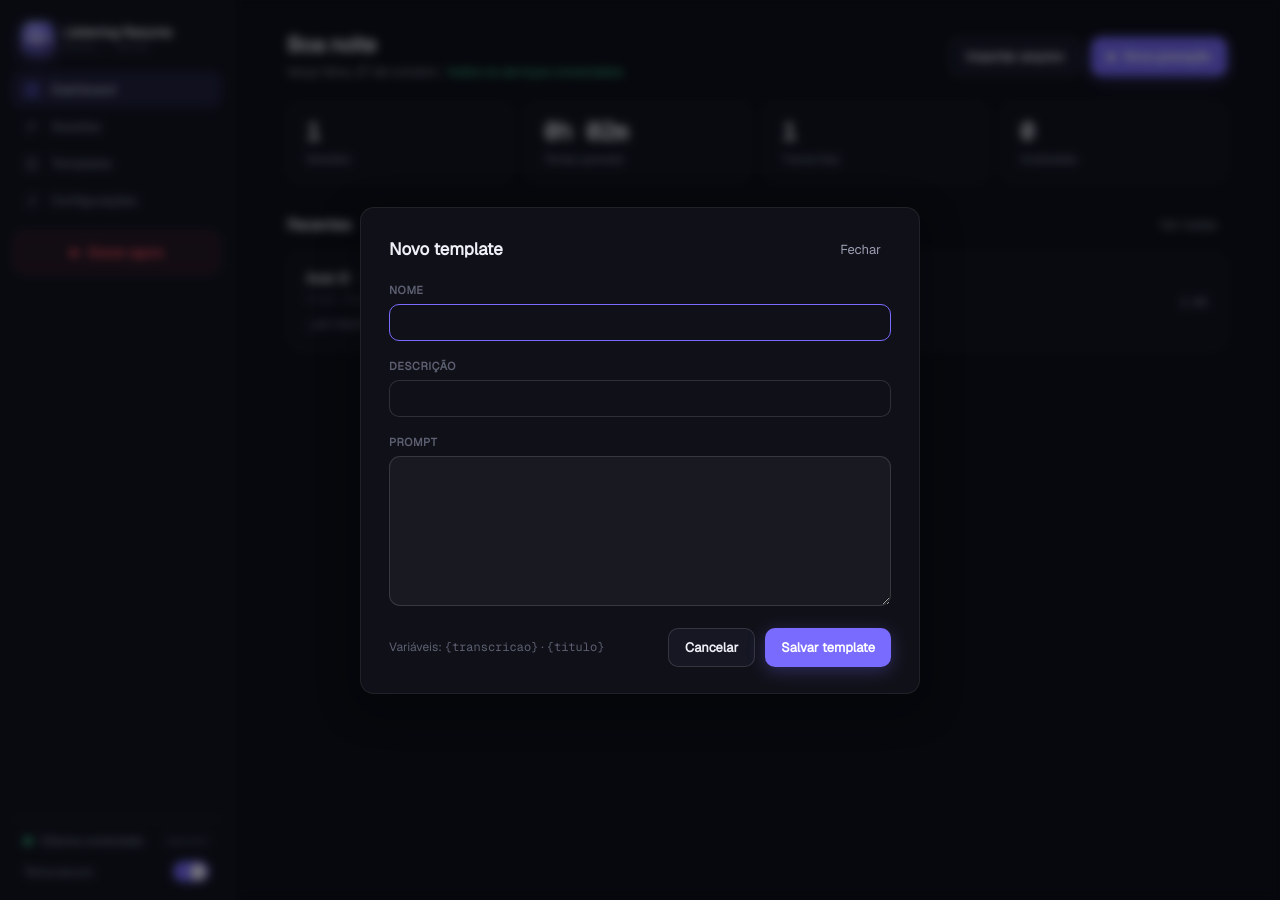
Test: App › Ctrl+Shift+R works inside a modal's input: no hard reload, the draft survives
Expected: the heading "Boa noite" is shown, [287,31,376,58]
In the field with test id "template-name-input": [640, 322] box [389,304,891,340], type "Rascunho"
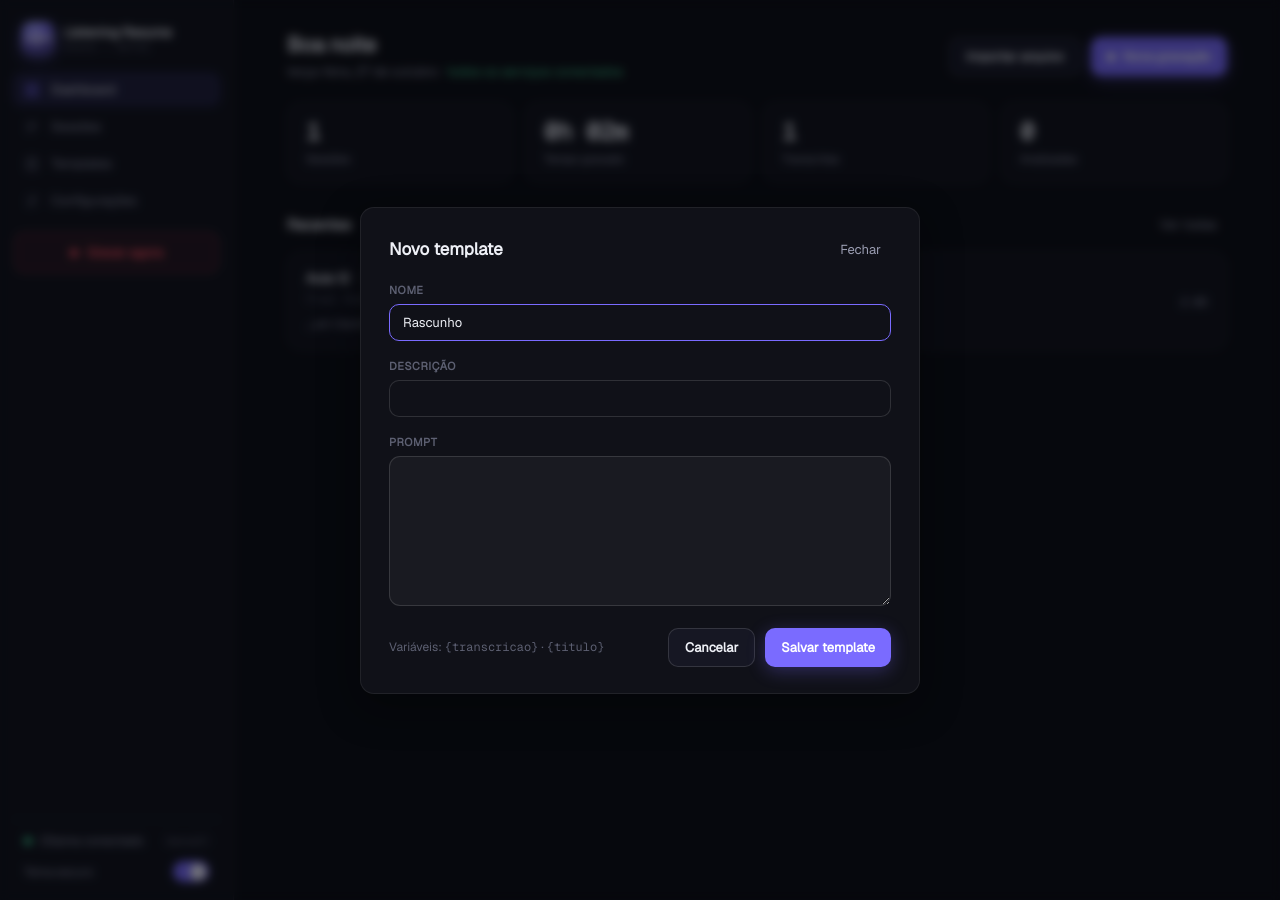
Press R in the field with test id "template-name-input", box [389,304,891,340]
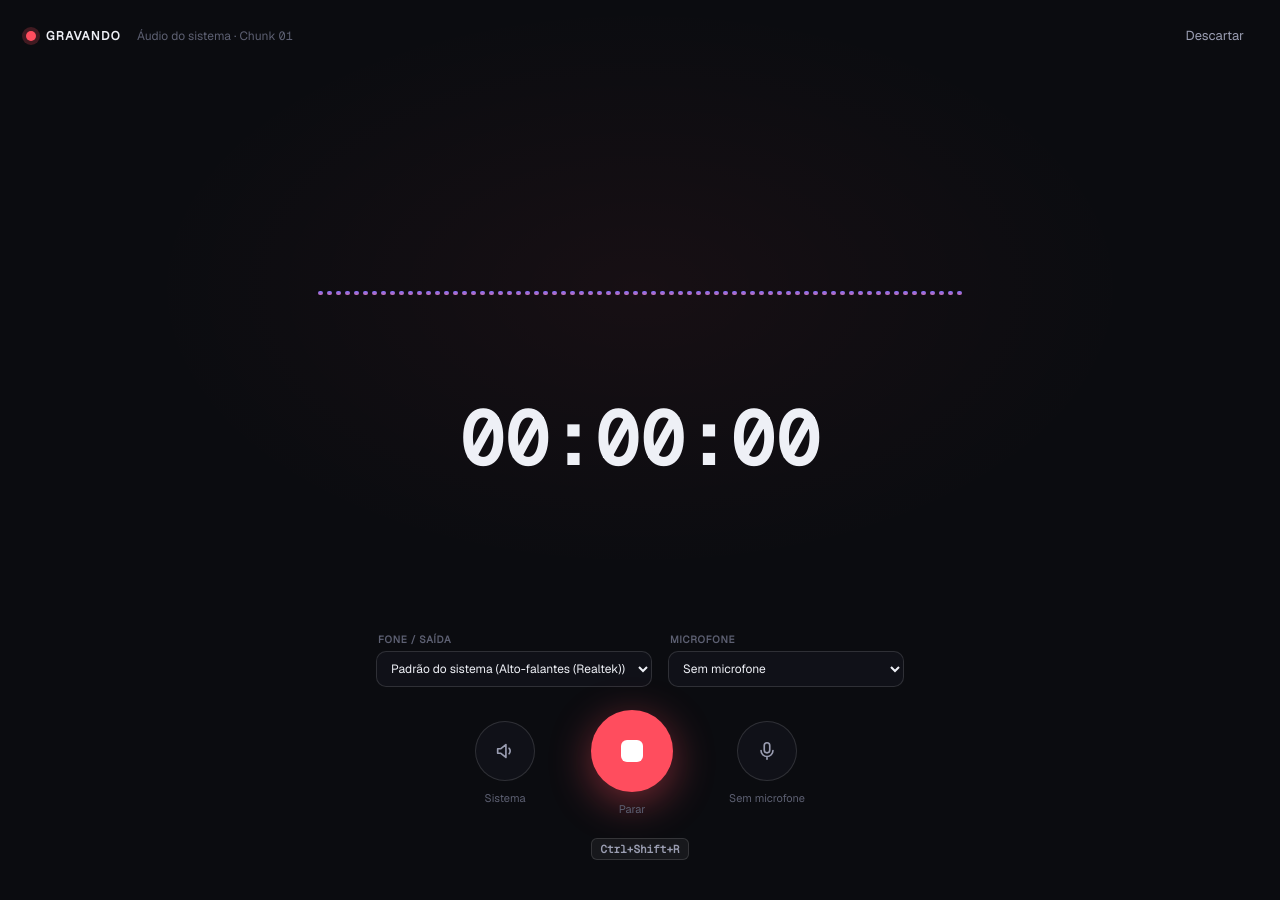
Expected: the element with test id "recording-screen" is shown
